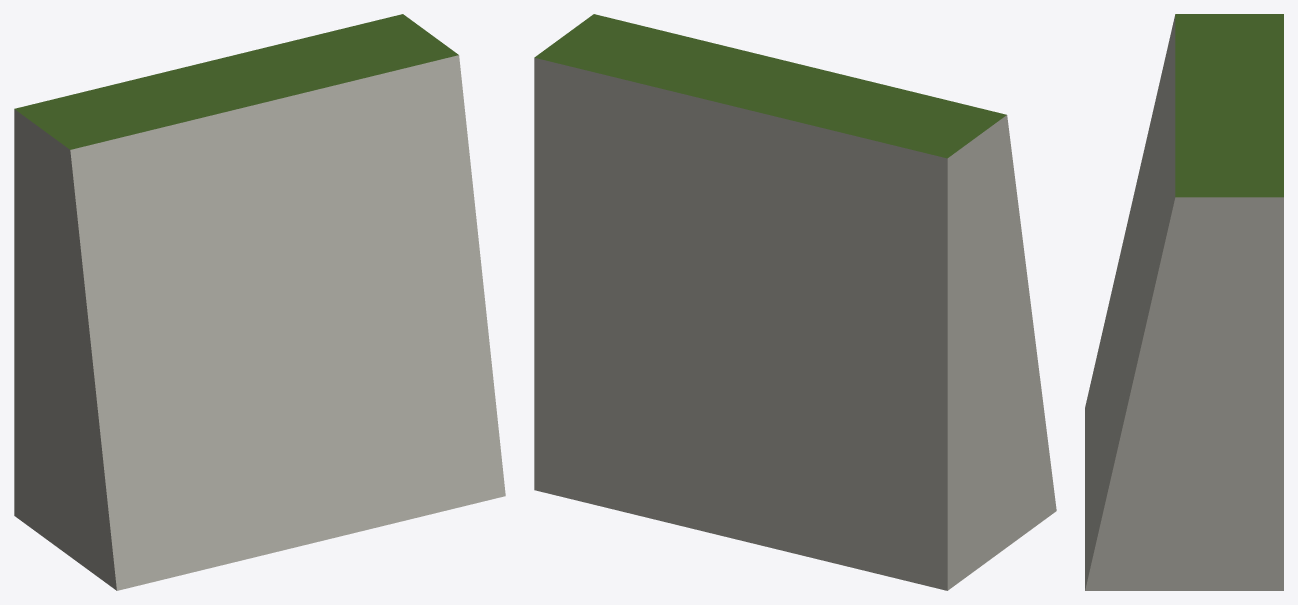
The model's file is Terrain_Tile_Grass_Rock_Cliff_Face_Angled_02.fbx.
3 views of the same model, side by side, from view 1: azimuth 30°, elevation 25°; view 2: azimuth 150°, elevation 25°; view 3: azimuth 270°, elevation 25° (orthographic). The views are drawn at different scales.
Parts seen in each view (by area): view 1: Terrain_Tile_Grass_Rock_Cliff_Face_Angled_02; view 2: Terrain_Tile_Grass_Rock_Cliff_Face_Angled_02; view 3: Terrain_Tile_Grass_Rock_Cliff_Face_Angled_02.
Boxes of the visible parts, left/top/right/bottom form: Terrain_Tile_Grass_Rock_Cliff_Face_Angled_02: left=14, top=14, right=505, bottom=590; Terrain_Tile_Grass_Rock_Cliff_Face_Angled_02: left=534, top=14, right=1056, bottom=590; Terrain_Tile_Grass_Rock_Cliff_Face_Angled_02: left=1085, top=14, right=1283, bottom=590.
Size of the model in its own units: 126 by 126 by 57.68.
